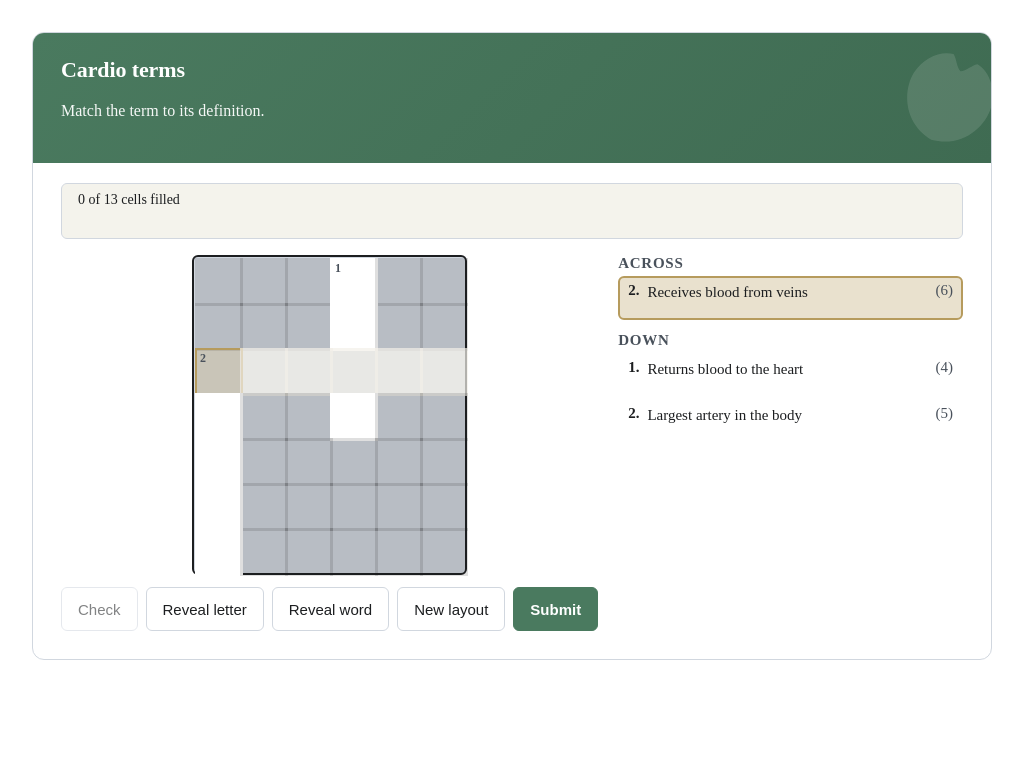
Test case: Crossword › pre-submit live region reports fill progress only; correctness appears after Check
Click the button "2. Largest artery in the body (5)": [791, 421] box [618,399,963,443]
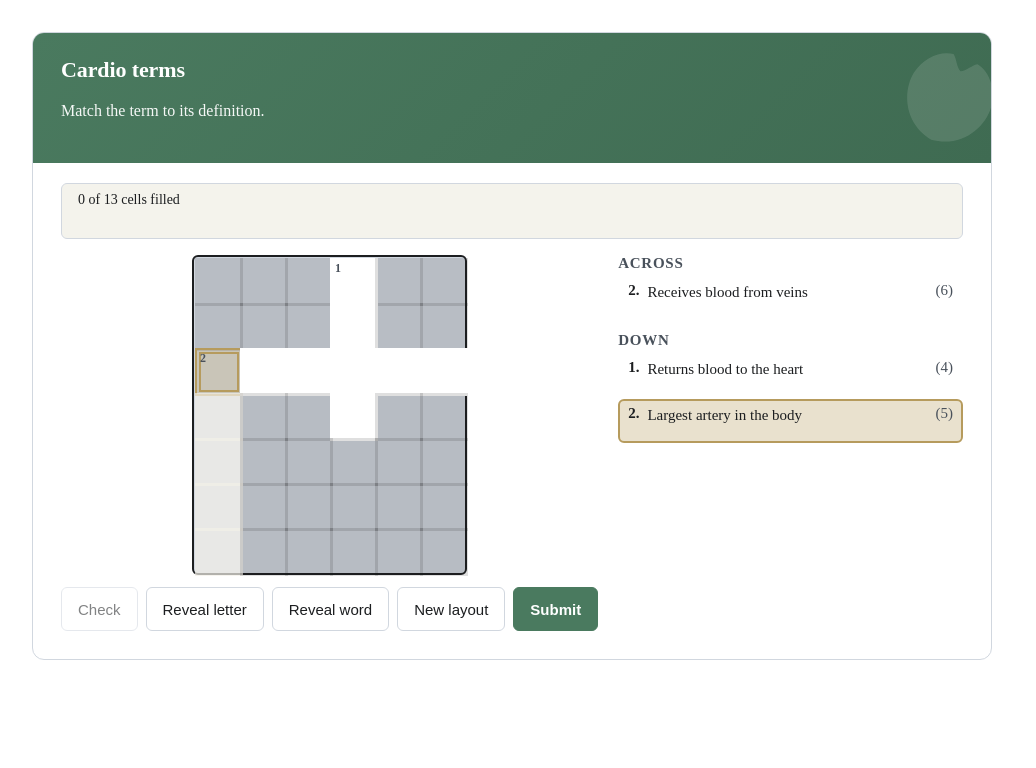
Type keys "AORTA"
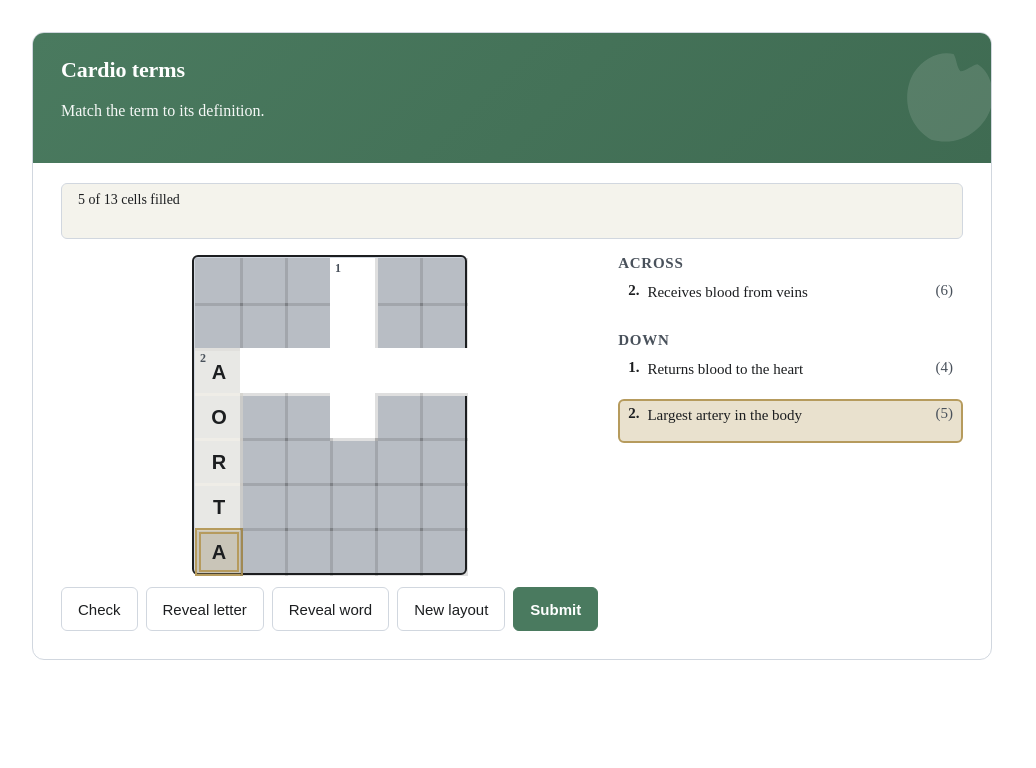
Expected: the element with class "kukui-cw__progress" does not show "correct"
Result: the message with class "kukui-cw__progress" reads "5 of 13 cells filled" at [61,183,963,239]
Click the button "Check": [99, 609] box [61,587,138,631]
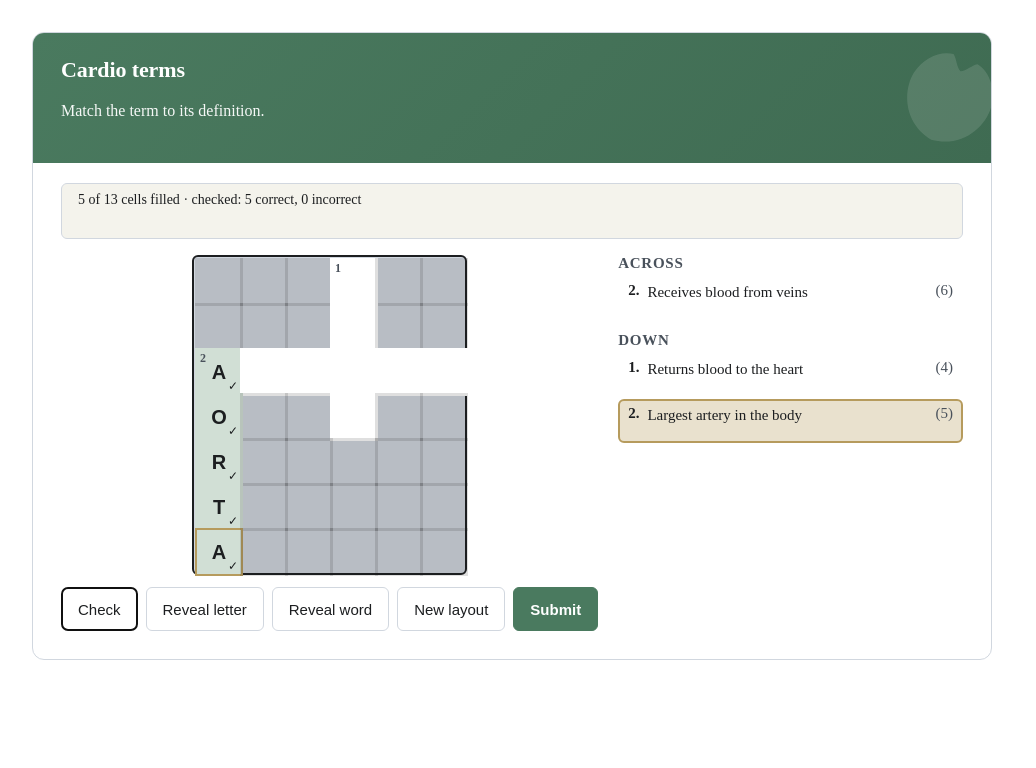
Result: the message with class "kukui-cw__progress" shows "checked: 5 correct, 0 incorrect" at [180,192,361,207]
